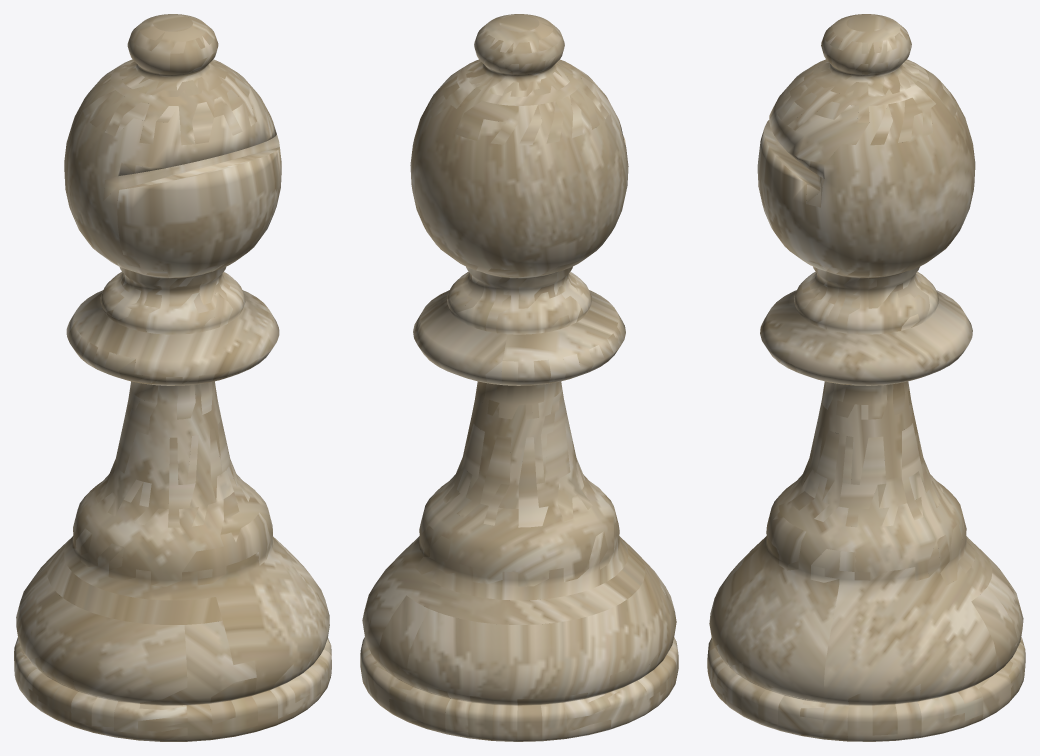
The model's file is alfilBlanco.obj.
3 renders of one model, left to right at view 1: azimuth 30°, elevation 25°; view 2: azimuth 150°, elevation 25°; view 3: azimuth 270°, elevation 25°, orthographic.
Parts seen in each view (by area): view 1: body; view 2: body; view 3: body.
Boxes of the visible parts, box(x1,y1,x2,y2) form: body: box(14, 14, 331, 741); body: box(360, 14, 678, 741); body: box(707, 14, 1025, 741).
Bounding box in the file's own units: 1.57 × 3.57 × 1.57.
1 material, 1 textured.
